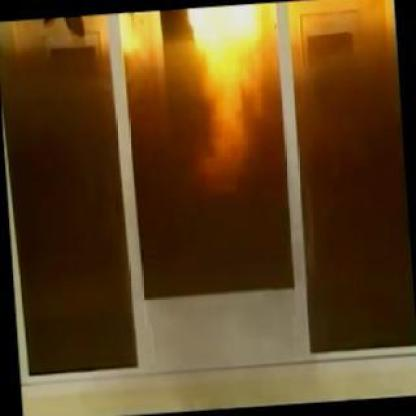Fire: (188, 0, 272, 169)
